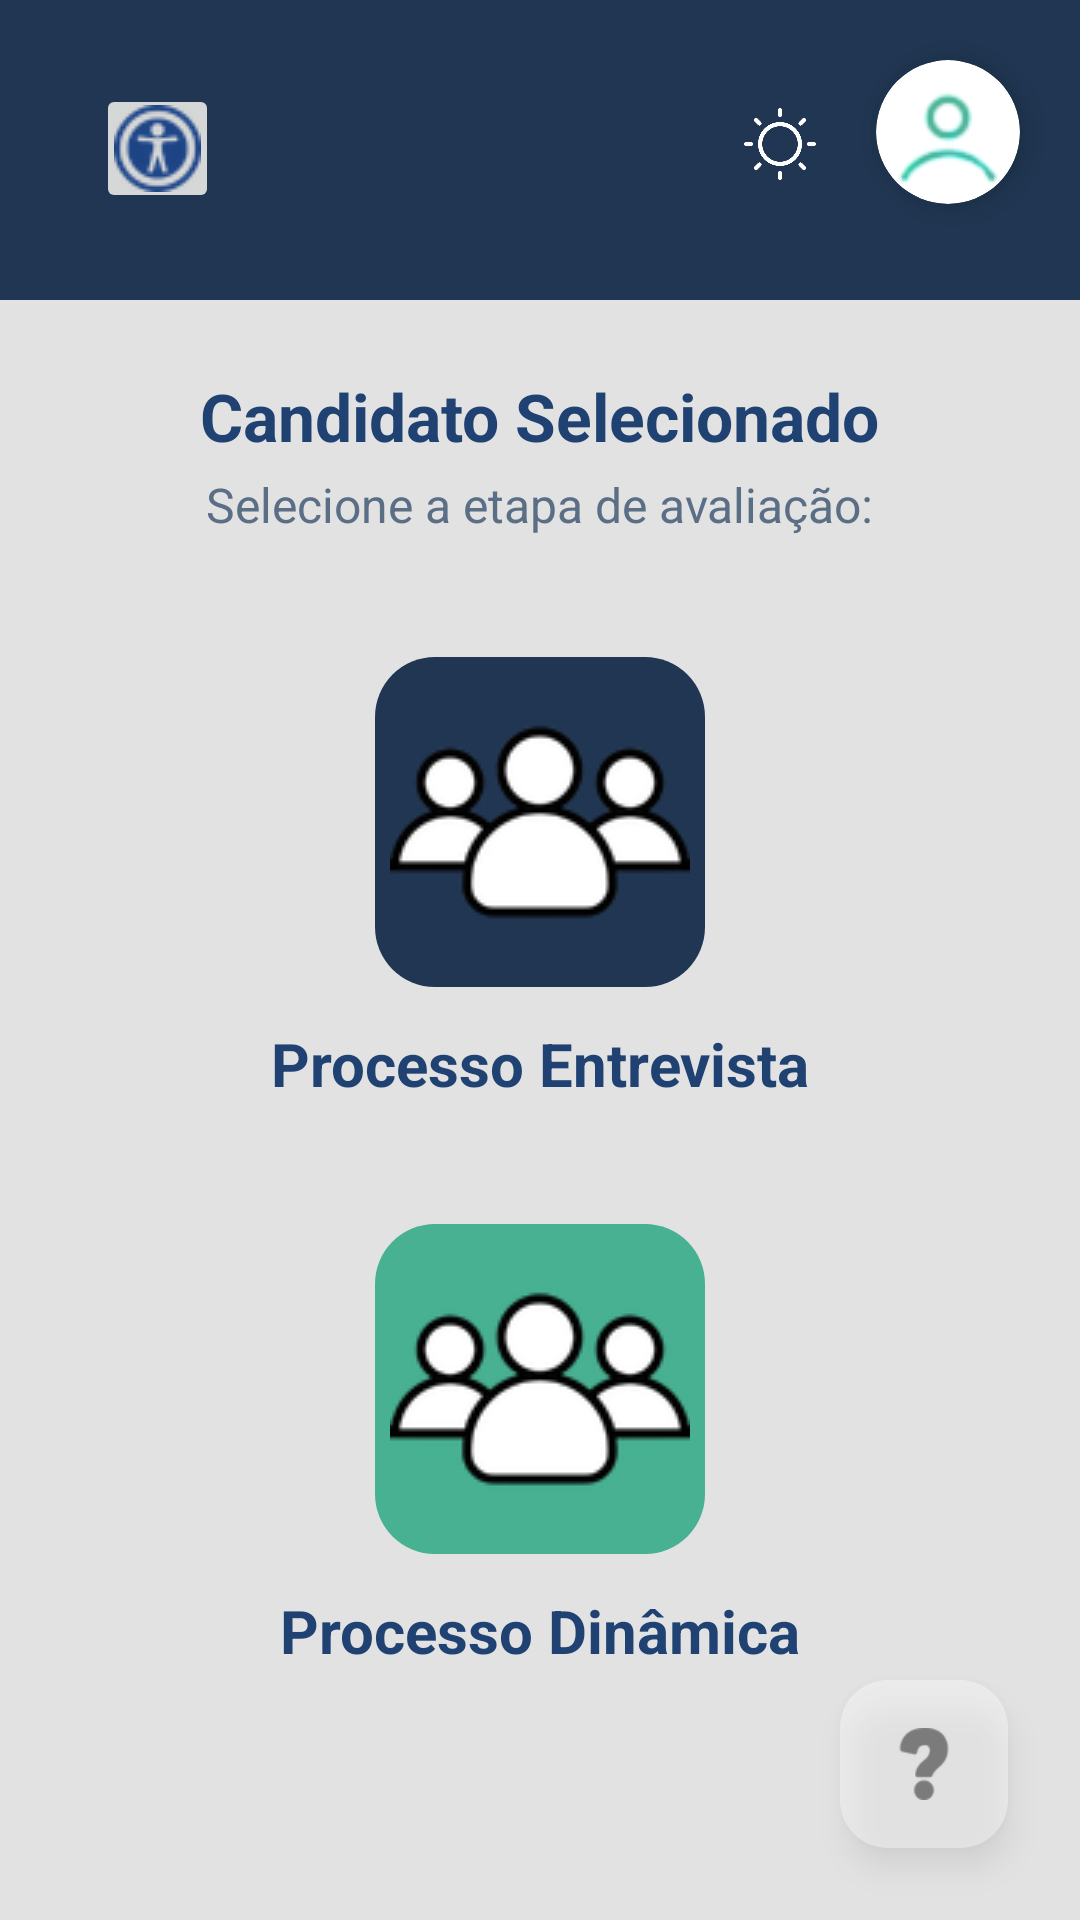

Screen size 1080x1920. Icon name, then its box in pixels as (x1, y1, x2, y2):
acessib: (108, 102, 207, 195)
Alternar Tema: (744, 108, 816, 180)
Foto de Perfil: (876, 60, 1020, 204)
grupo: (375, 657, 705, 987), (375, 1224, 705, 1554)
interrogacao: (899, 1728, 949, 1800)
